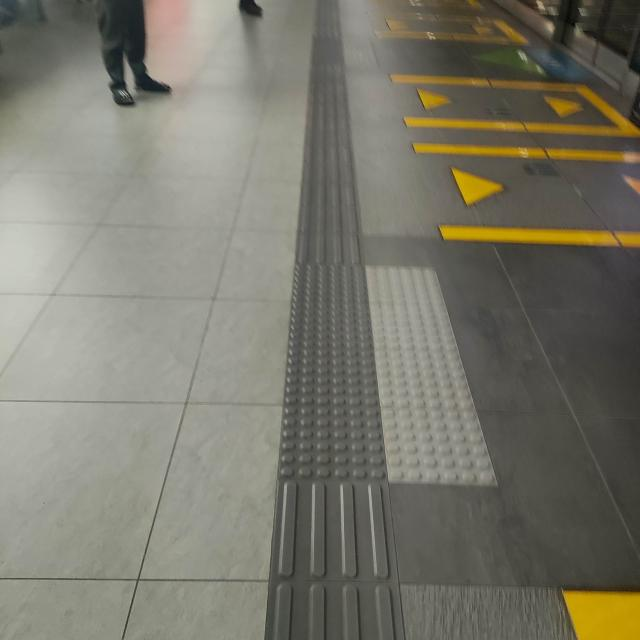lurus: (290, 6, 380, 640)
